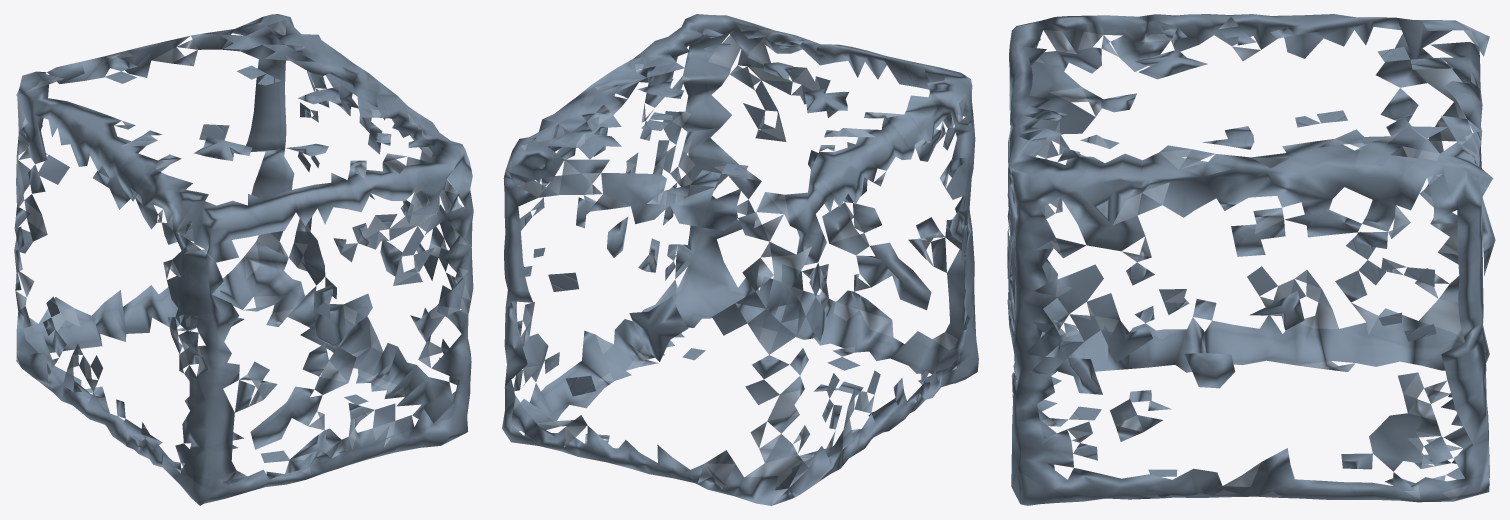
Rendered from sample_430_recon.obj.
3 views of the same model, side by side, from view 1: azimuth 30°, elevation 25°; view 2: azimuth 150°, elevation 25°; view 3: azimuth 270°, elevation 25° (orthographic). The views are drawn at different scales.
Size of the model in its own units: 1.09 by 1.11 by 1.37.
